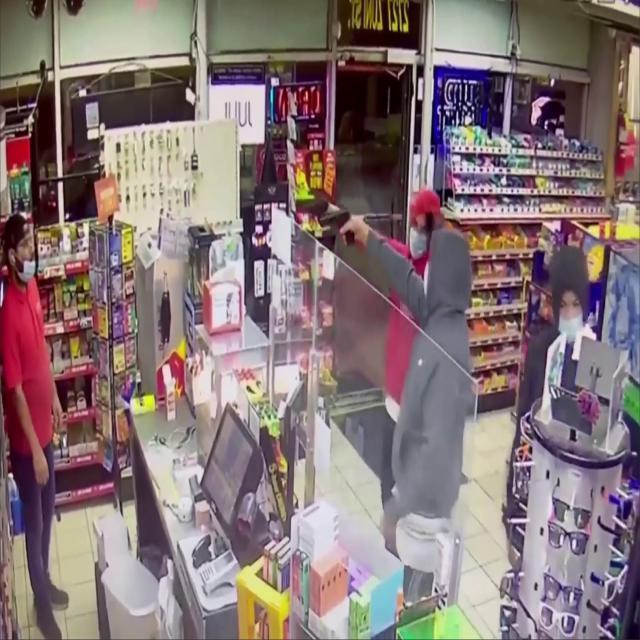gun: (321, 210, 357, 250), (296, 196, 330, 227)
